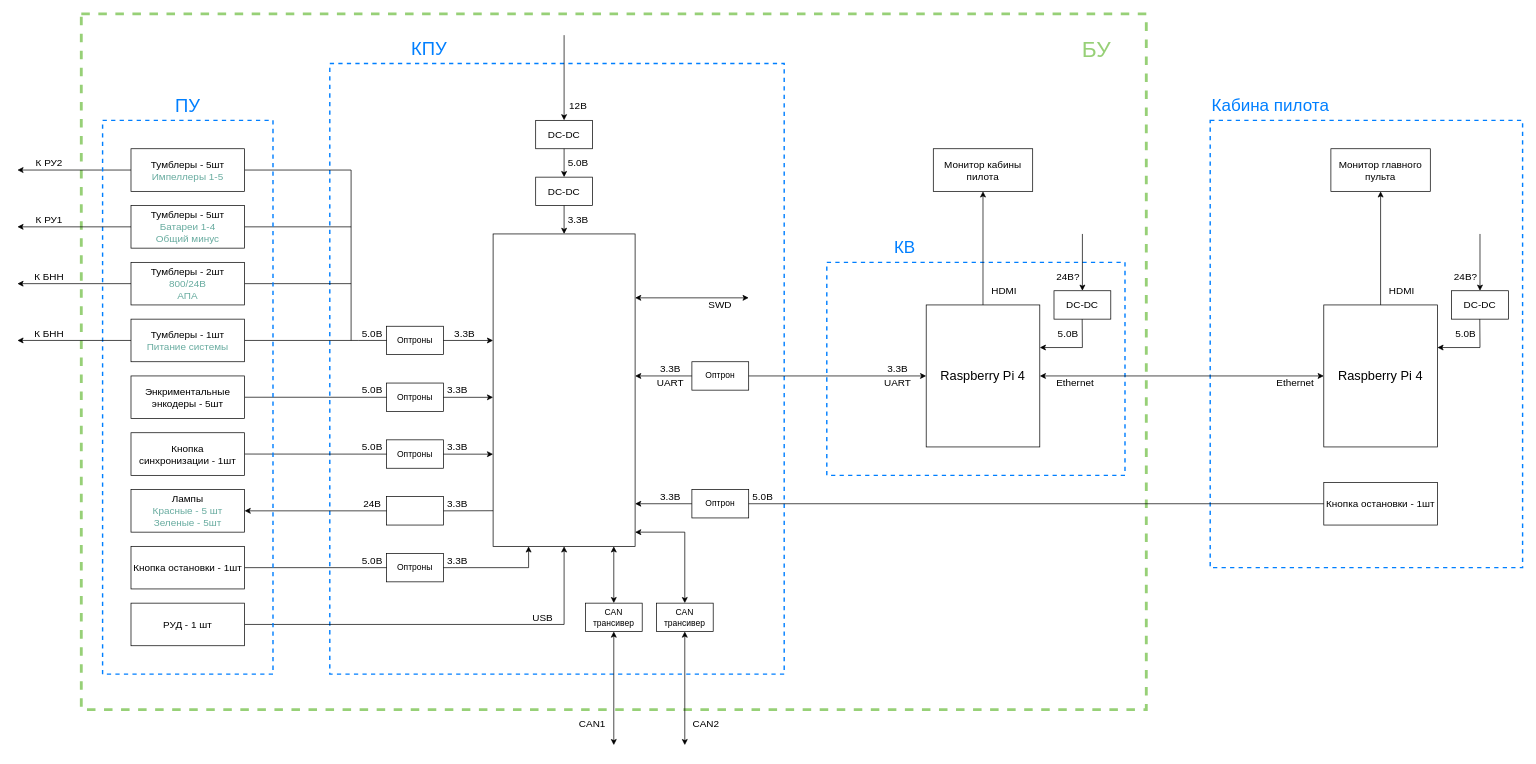
This 1536x764 diagram has some shape labels left out. Each missing label, with the box of its shape:
Микроконтроллер STM32F405VGT6: (492, 233, 635, 546)
Оптореле: (386, 496, 443, 525)
